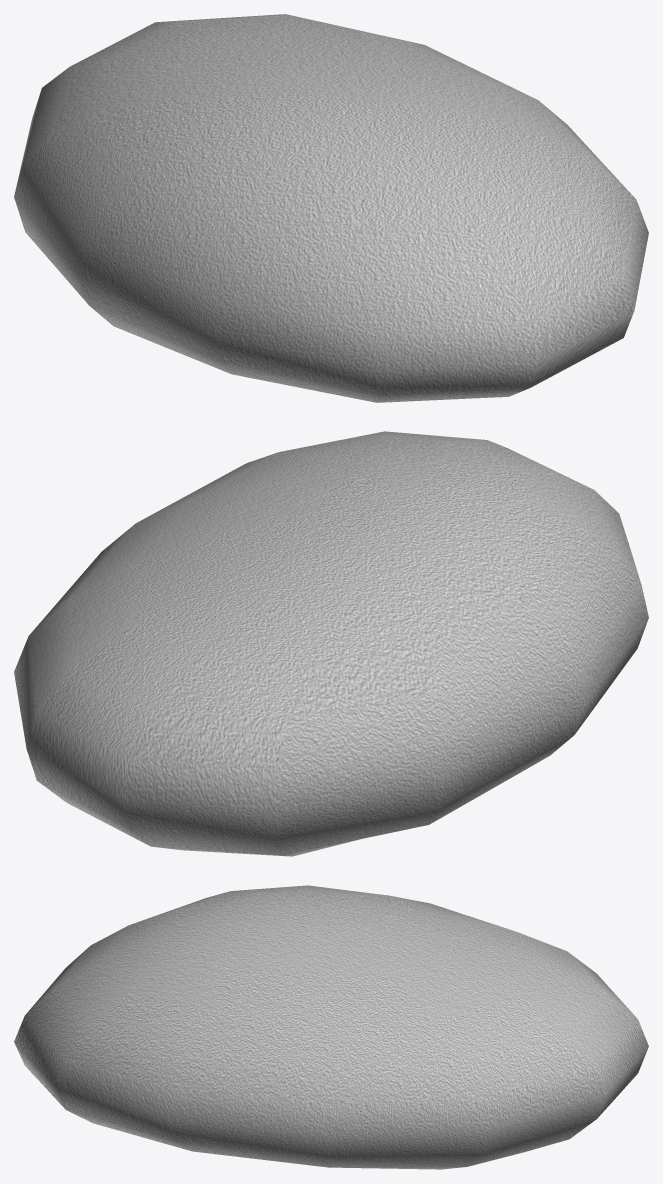
The model's file is piedra01.fbx.
3 renders of one model, top to bottom at view 1: azimuth 30°, elevation 25°; view 2: azimuth 150°, elevation 25°; view 3: azimuth 270°, elevation 25°, orthographic. The views are drawn at different scales.
Visible parts, largest first — view 1: Sphere; view 2: Sphere; view 3: Sphere.
Boxes of the visible parts, <box> form: Sphere: <box>14,14,648,402</box>; Sphere: <box>14,431,648,856</box>; Sphere: <box>14,885,648,1169</box>.
Bounding box in the file's own units: 141 × 69.99 × 200.
